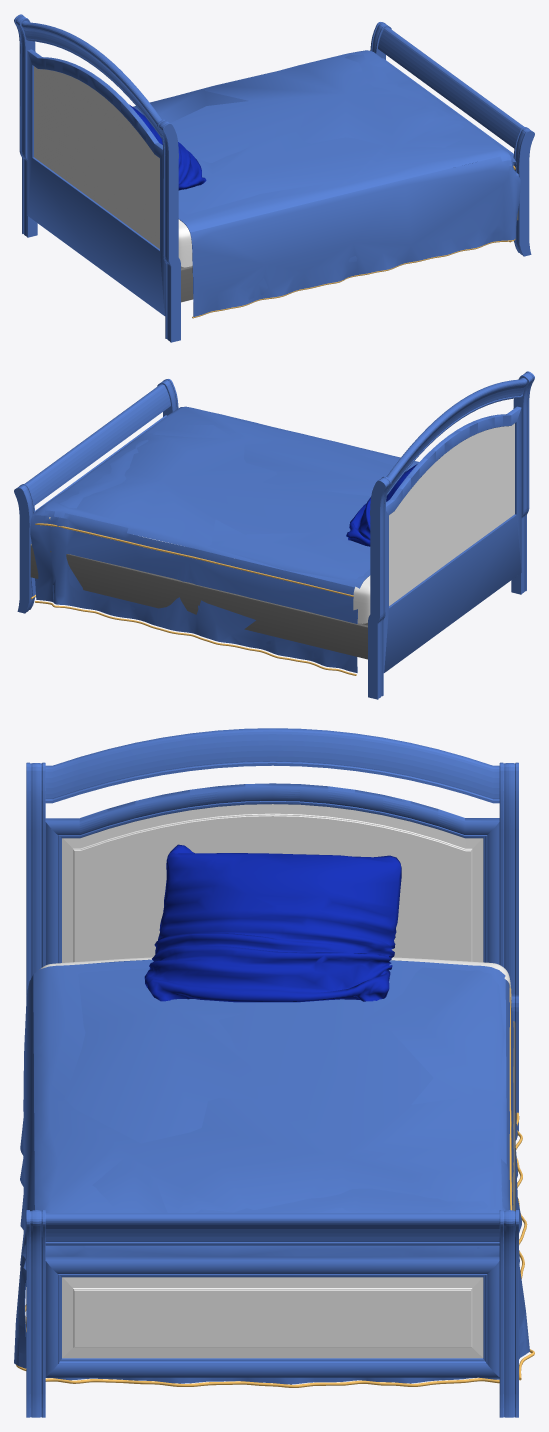
File: homeRoomSmallBed.FBX
3 renders of one model, top to bottom at view 1: azimuth 30°, elevation 25°; view 2: azimuth 150°, elevation 25°; view 3: azimuth 270°, elevation 25°, orthographic. The views are drawn at different scales.
Visible parts, largest first — view 1: Plane002, Box024, Shape010, Line006, Shape06, Line04, Shape020, Shape03, Box026, ChamferBox002, Shape006, Line030; view 2: Plane002, Box024, Shape010, Line029, Line006, Shape020, Line04, Shape06, Shape007, Box026, Shape006, Shape003 (+1 smaller); view 3: Plane002, Box024, Box026, Box025, Shape008, Line04, Line006, Shape010, Shape020, Shape06, Shape007, Shape03 (+2 smaller).
Part boxes in pixels (box(x1,y1,x2,y2)): Plane002: box(133, 50, 520, 316); Box024: box(34, 66, 159, 248); Shape010: box(27, 49, 165, 315); Line006: box(378, 27, 523, 148); Shape06: box(157, 119, 180, 342); Line04: box(21, 21, 162, 138); Shape020: box(14, 14, 37, 237); Shape03: box(513, 126, 534, 256); Box026: box(129, 104, 206, 190); ChamferBox002: box(178, 219, 192, 267); Shape006: box(192, 239, 515, 318); Line030: box(181, 211, 518, 302); Plane002: box(30, 406, 418, 672); Box024: box(389, 423, 514, 605); Shape010: box(383, 406, 521, 672); Line029: box(30, 544, 367, 659); Line006: box(25, 384, 170, 505); Shape020: box(368, 476, 391, 699); Line04: box(386, 378, 527, 495); Shape06: box(511, 371, 534, 594); Shape007: box(14, 483, 35, 613); Box026: box(346, 464, 417, 546); Shape006: box(30, 594, 356, 675); Shape003: box(35, 523, 353, 596); Plane002: box(14, 959, 529, 1384); Box024: box(62, 804, 483, 962); Box026: box(144, 844, 401, 1002); Box025: box(62, 1277, 483, 1358); Shape008: box(45, 1256, 499, 1377); Line04: box(45, 728, 499, 803); Line006: box(45, 1213, 499, 1245); Shape010: box(45, 783, 499, 964); Shape020: box(499, 762, 518, 1131); Shape06: box(26, 762, 45, 998); Shape007: box(499, 1210, 518, 1417); Shape03: box(26, 1210, 45, 1417).
Bounding box in the file's own units: 53.28 × 32.85 × 39.14.
